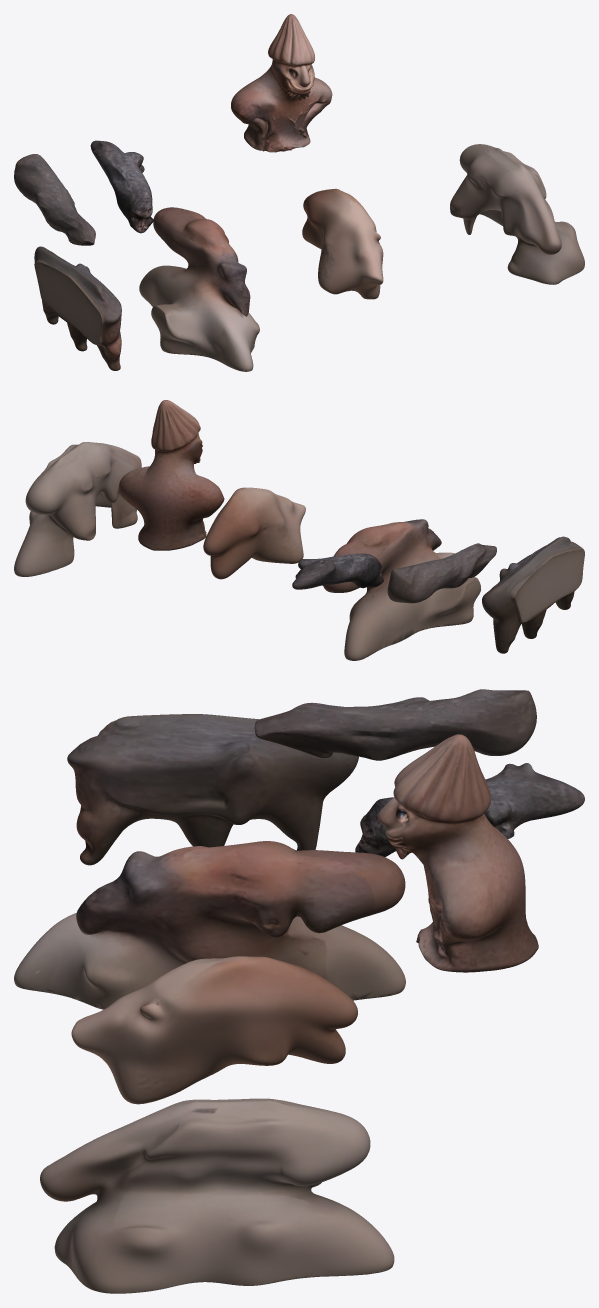
The model's file is 005-kollekciya-terrakotovyh-figurok-vsadnikov-i.glb.
The picture shows the model from 3 angles, top to bottom: view 1: azimuth 30°, elevation 25°; view 2: azimuth 150°, elevation 25°; view 3: azimuth 270°, elevation 25°; orthographic projection. The views are drawn at different scales.
Visible parts, largest first — view 1: node_0; view 2: node_0; view 3: node_0.
Boxes of the visible parts, bbox=[...] form: node_0: bbox=[14, 14, 584, 371]; node_0: bbox=[14, 400, 584, 660]; node_0: bbox=[14, 689, 584, 1293].
Bounding box in the file's own units: 1.04 × 0.4524 × 0.5949.
Materials: 1 (1 with a texture image).
